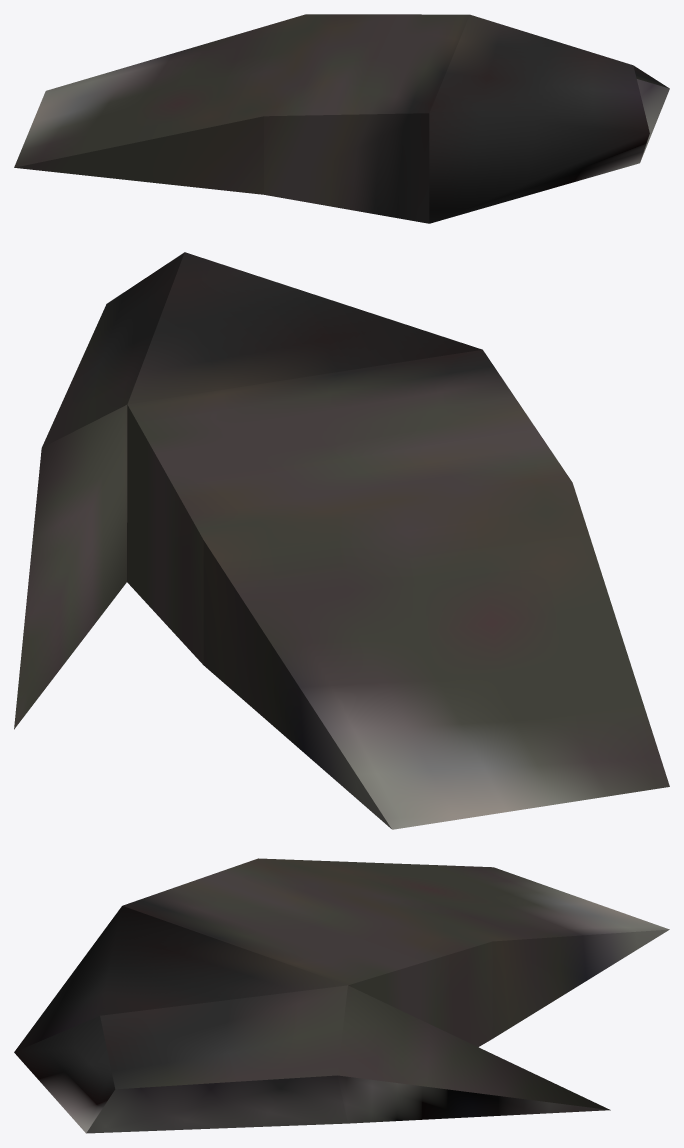
The model's file is kingjulien_hand_izq.obj.
3 renders of one model, top to bottom at view 1: azimuth 30°, elevation 25°; view 2: azimuth 150°, elevation 25°; view 3: azimuth 270°, elevation 25°, orthographic. The views are drawn at different scales.
Parts seen in each view (by area): view 1: kingjulien_hand_izq; view 2: kingjulien_hand_izq; view 3: kingjulien_hand_izq.
Part boxes in pixels (x1,y1,x2,y2): kingjulien_hand_izq: [14, 14, 669, 223]; kingjulien_hand_izq: [14, 252, 669, 829]; kingjulien_hand_izq: [14, 858, 669, 1133].
Bounding box in the file's own units: 0.441 × 0.1037 × 0.3995.
